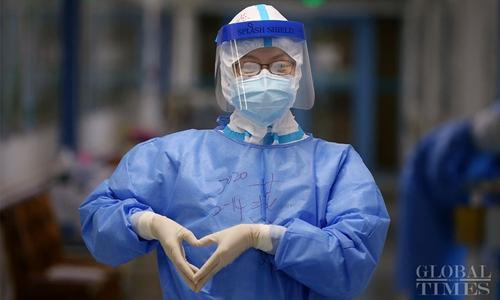Face_Shield: (211, 19, 316, 111)
Gloves: (135, 212, 196, 291), (196, 223, 263, 292)
